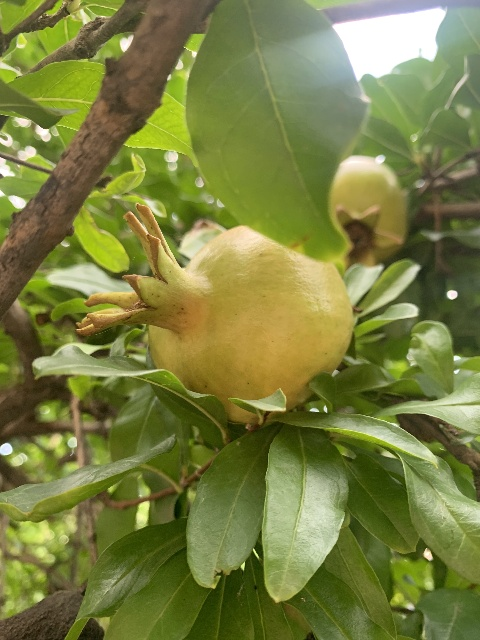mid-growth: (77, 203, 353, 422), (329, 155, 408, 267)
